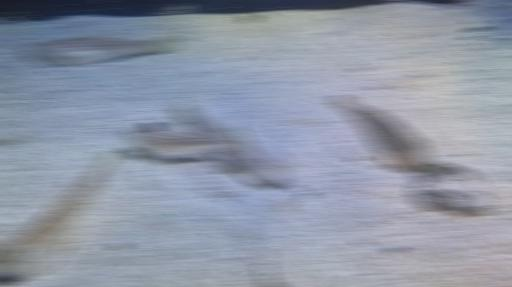Fish: (0, 149, 117, 279), (332, 94, 431, 171), (124, 122, 251, 164), (22, 35, 175, 67), (218, 139, 290, 185), (141, 122, 164, 132)
